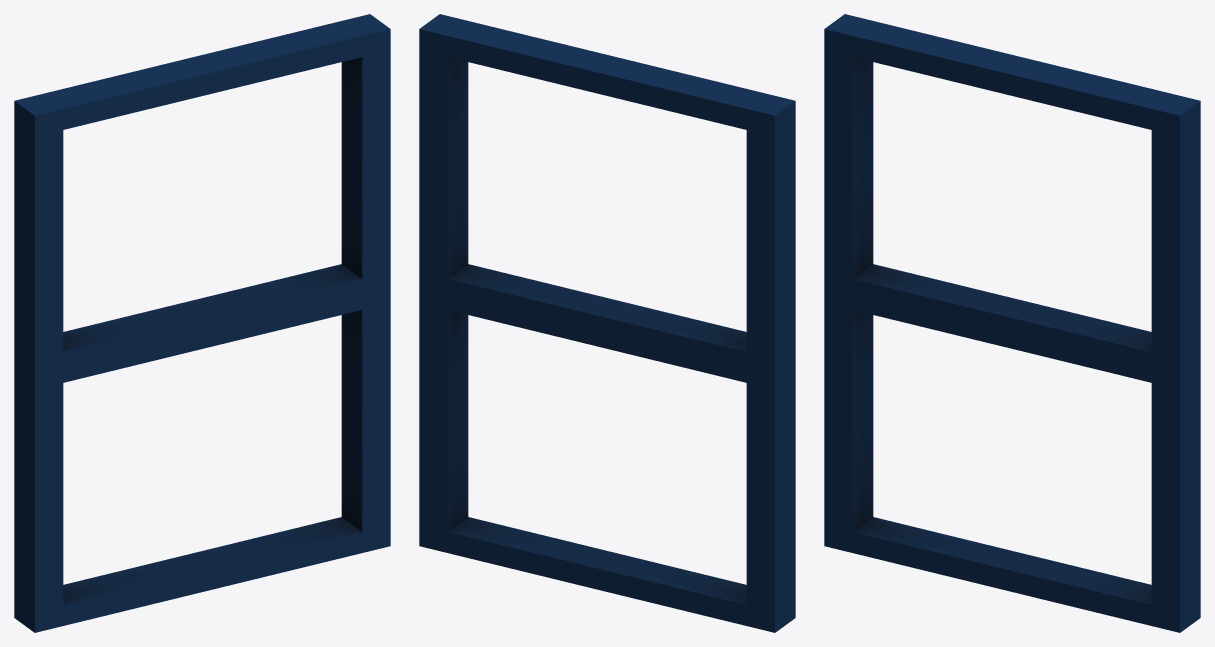
The model's file is ventana_Generica.FBX.
3 renders of one model, left to right at view 1: azimuth 30°, elevation 25°; view 2: azimuth 150°, elevation 25°; view 3: azimuth 330°, elevation 25°, orthographic.
Visible parts, largest first — view 1: Box015; view 2: Box015; view 3: Box015.
Part boxes in pixels (<box>): Box015: <box>14,14,390,632</box>; Box015: <box>419,14,795,632</box>; Box015: <box>824,14,1200,632</box>.
Size of the model in its own units: 180 by 250 by 18.
1 material, 1 textured.
